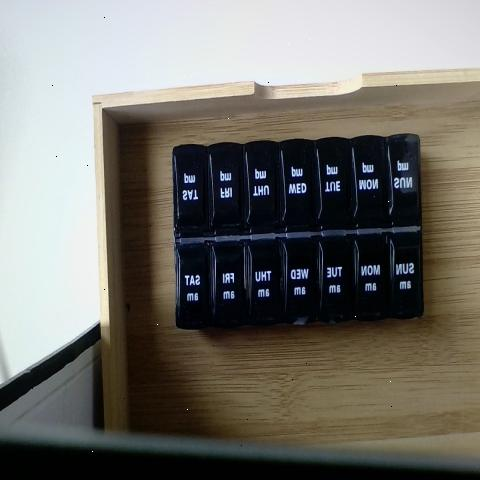FRI-am: (214, 240, 246, 328)
FRI-pm: (212, 143, 246, 235)
MON-am: (355, 238, 390, 325)
MON-pm: (352, 137, 384, 228)
SAT-am: (175, 240, 213, 326)
SAT-pm: (175, 146, 210, 236)
SUN-am: (390, 235, 422, 321)
SUN-pm: (386, 133, 419, 224)
THU-am: (247, 234, 283, 326)
THU-pm: (248, 143, 282, 234)
TUE-am: (320, 237, 354, 326)
TUE-pm: (317, 137, 351, 230)
WED-am: (284, 234, 316, 329)
WED-pm: (283, 141, 315, 231)
